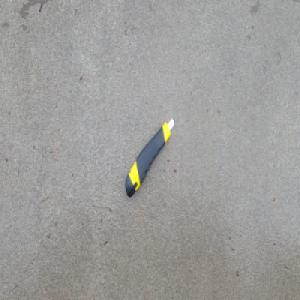Cutter: (124, 117, 175, 199)
